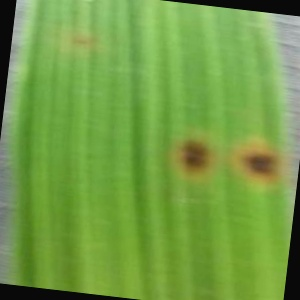Bacterial_Leaf_Blight: (232, 134, 288, 195), (165, 128, 221, 184), (64, 26, 99, 52), (65, 4, 82, 17)
